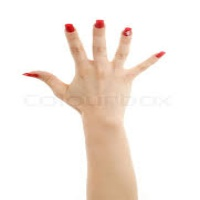ring: (112, 23, 142, 72)
